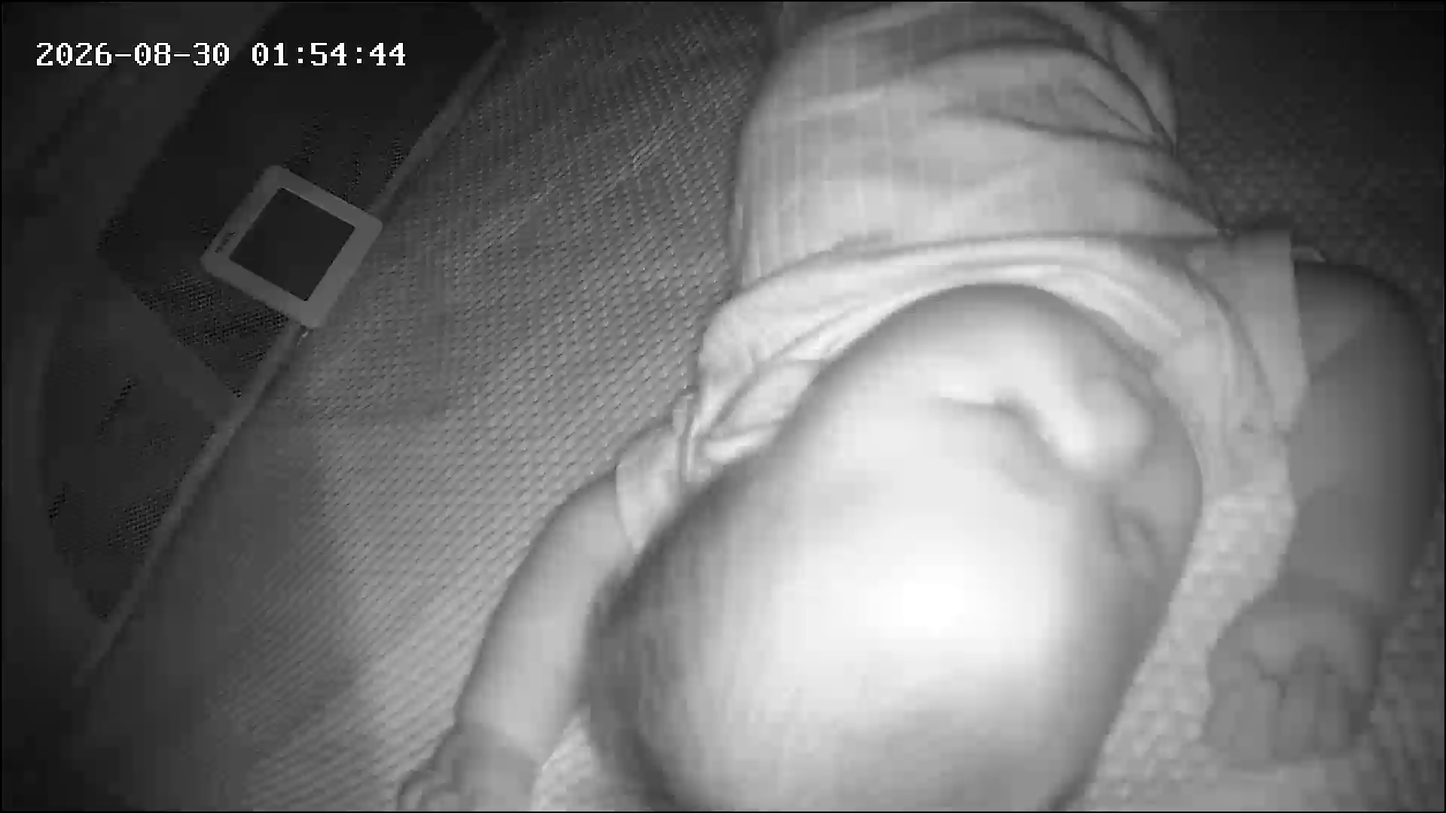baby: (613, 0, 1446, 813)
baby_face: (614, 275, 1219, 809)
